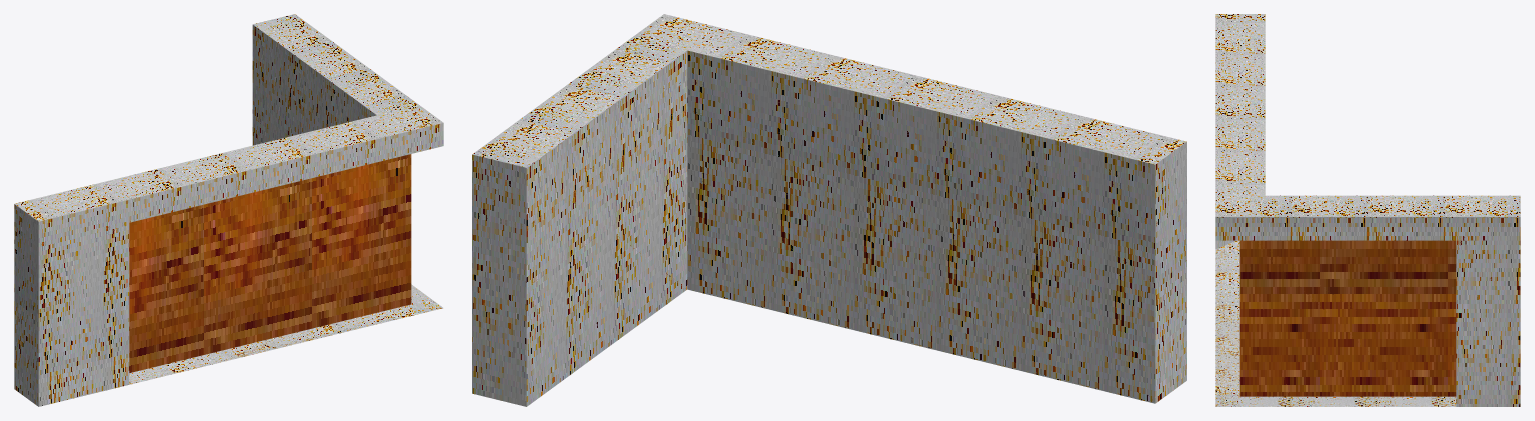
File: lobby.glb
3 views of the same model, side by side, from view 1: azimuth 30°, elevation 25°; view 2: azimuth 150°, elevation 25°; view 3: azimuth 270°, elevation 25° (orthographic). The views are drawn at different scales.
Parts seen in each view (by area): view 1: Куб; view 2: Куб; view 3: Куб.
Part boxes in pixels (x1=…): Куб: x1=14, y1=14, x2=443, y2=406; Куб: x1=472, y1=14, x2=1186, y2=406; Куб: x1=1215, y1=14, x2=1520, y2=406.
Size of the model in its own units: 19.1 by 8.35 by 12.15.
2 materials, 2 textured.
